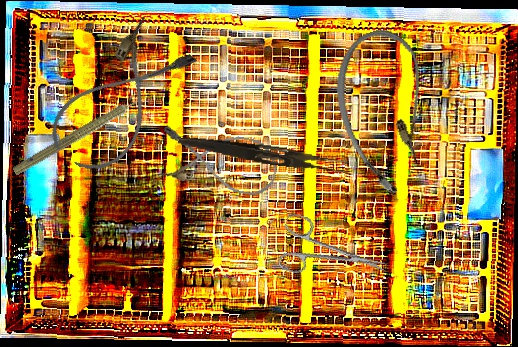Cannula: (40, 13, 201, 185), (320, 21, 453, 202), (154, 122, 282, 199)
Dressing Forceps: (176, 134, 349, 174)
Handpiece: (10, 89, 152, 181)
Iris Scissors: (273, 212, 394, 297)
